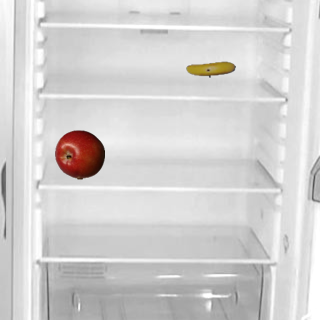Apple Braeburn: (54, 129, 104, 179)
Banana: (185, 44, 235, 94)
